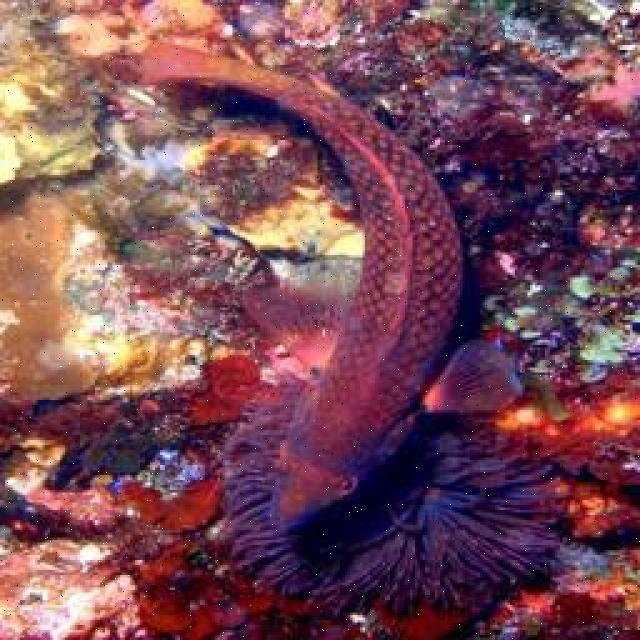fish: (108, 37, 525, 520)
reefs: (223, 376, 562, 613)
